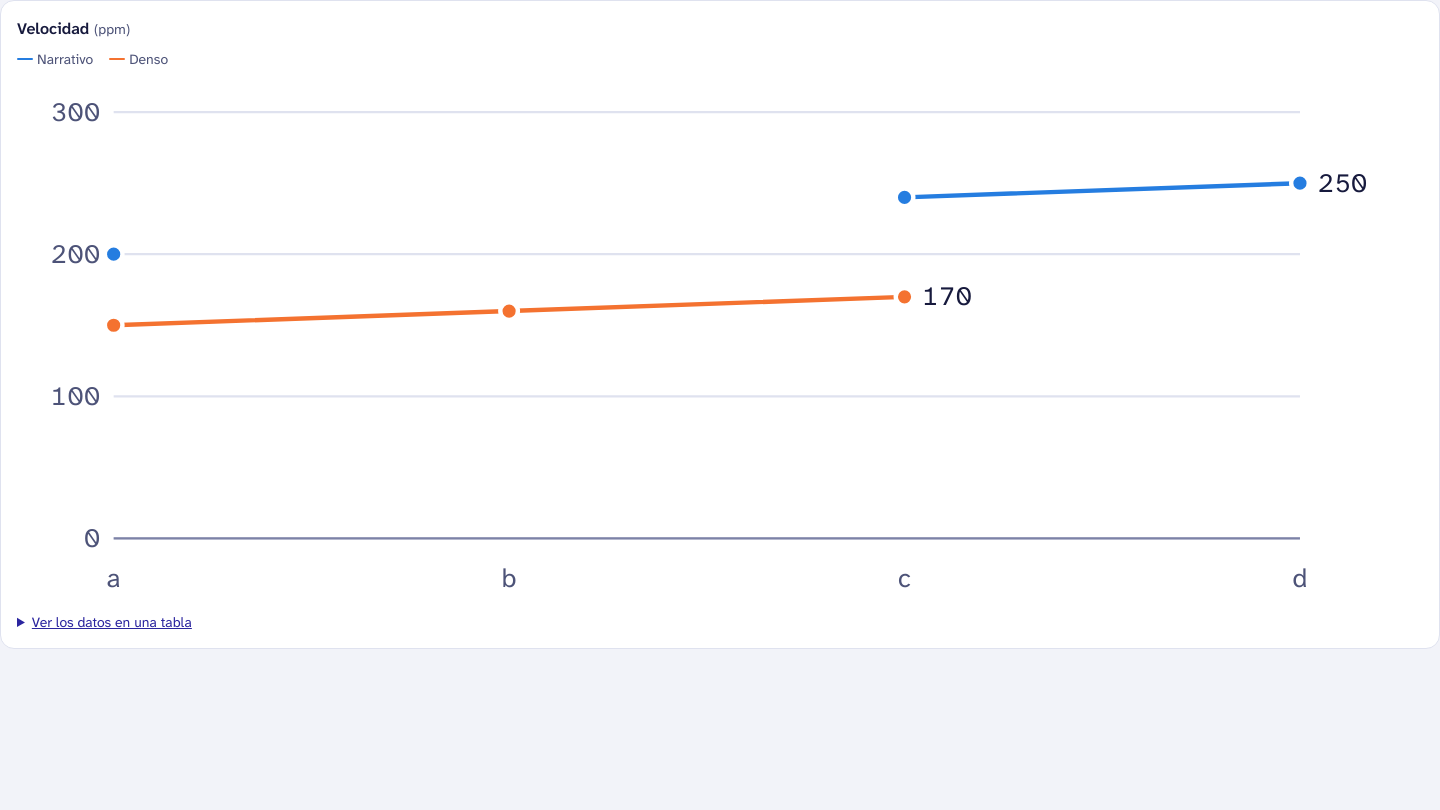
Test: LineChart › con el teclado recorre las columnas
Focus the picture at (720, 341), box [17,77,1423,604]
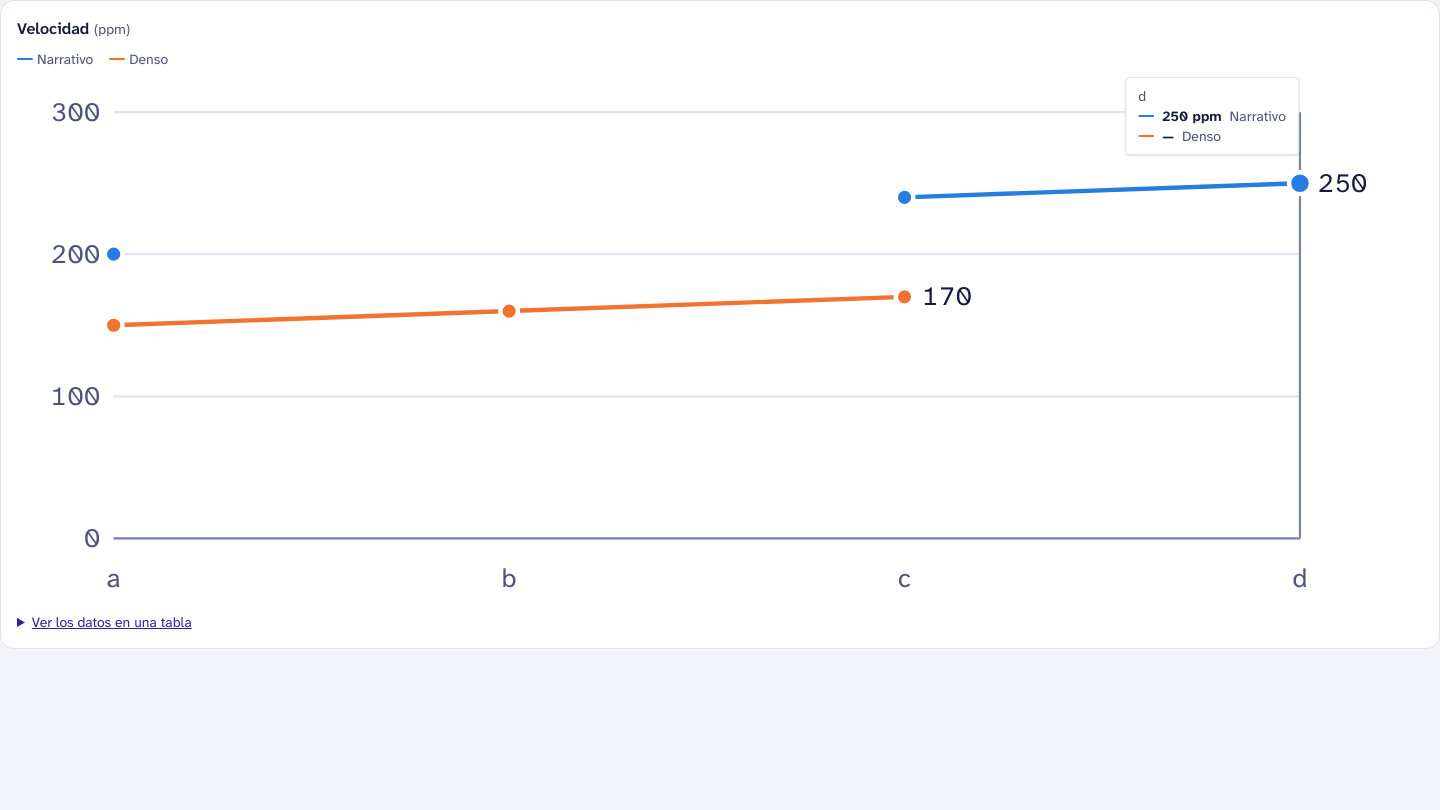
Result: the message shows "250" at [1162,107,1222,125]
Press ArrowLeft in the picture
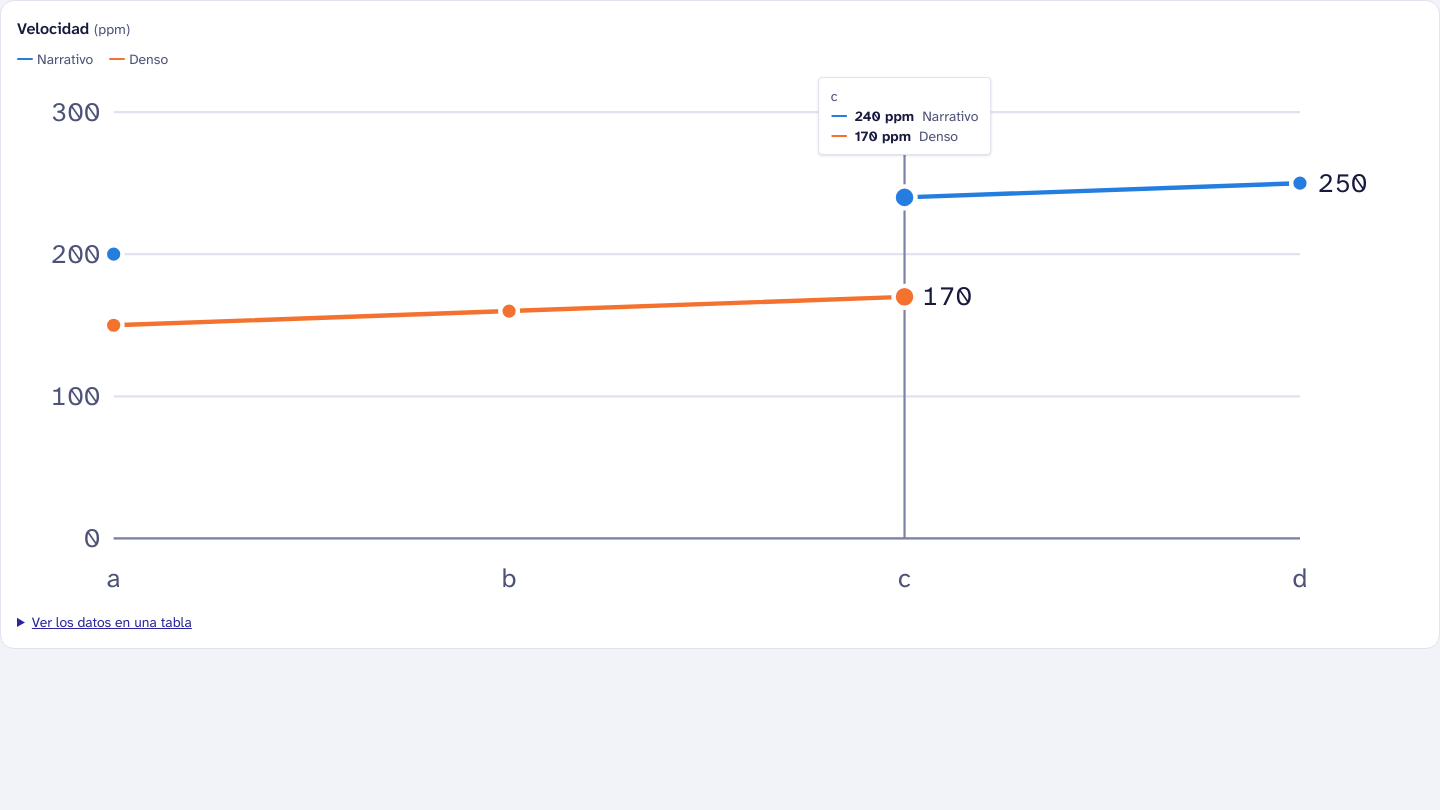
Result: the message shows "240" at [855,107,914,125]
